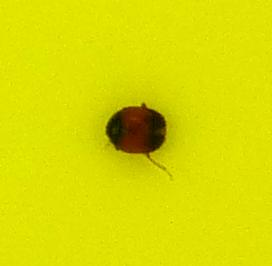Coleoptera: (100, 100, 172, 166)
